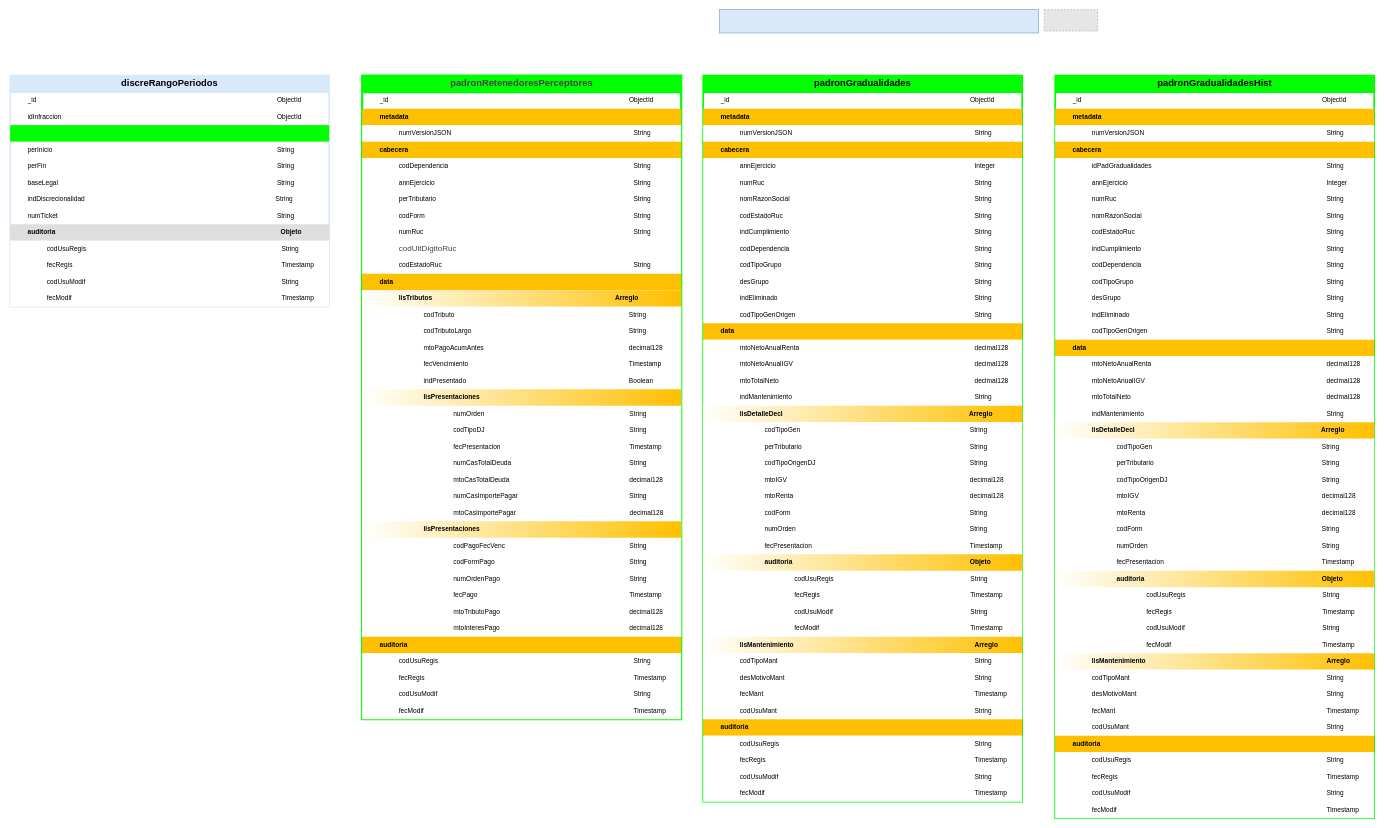
Some shapes in this 1384 by 828 pixel diagram are drawn without their labels. Grey dashed boxes stand in for pictures. Here are the shapes that lost their labels. From the top down, the centre of each, then its label:
At [879,21]: "MODELO DE DATOS V.8.0 - BASE DE DATOS INFRACCIONES".
At [169,133]: "codTipoInfraccion String".
